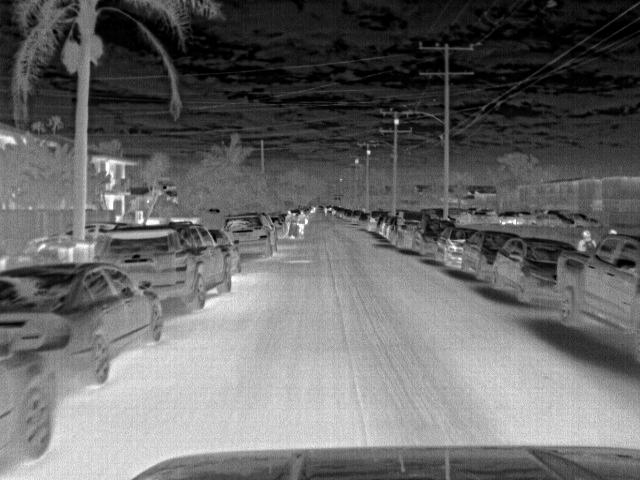car: (1, 260, 164, 384), (93, 216, 232, 310), (552, 233, 638, 348), (2, 348, 60, 463), (489, 236, 575, 307), (457, 228, 518, 283), (223, 212, 272, 262), (435, 225, 478, 269), (391, 209, 431, 251), (414, 218, 454, 260), (206, 226, 241, 273), (20, 224, 76, 253), (369, 210, 389, 230), (357, 211, 373, 227), (352, 210, 364, 224)
person: (575, 226, 599, 255), (282, 208, 296, 237), (295, 209, 308, 237)
